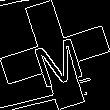M_N: (25, 24, 85, 86)
